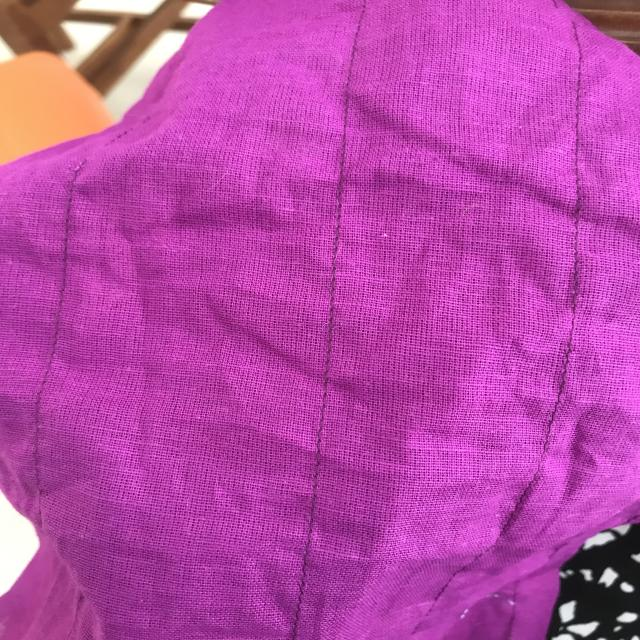good: (317, 186, 366, 277), (304, 420, 342, 535), (316, 292, 348, 388), (563, 75, 597, 145)
